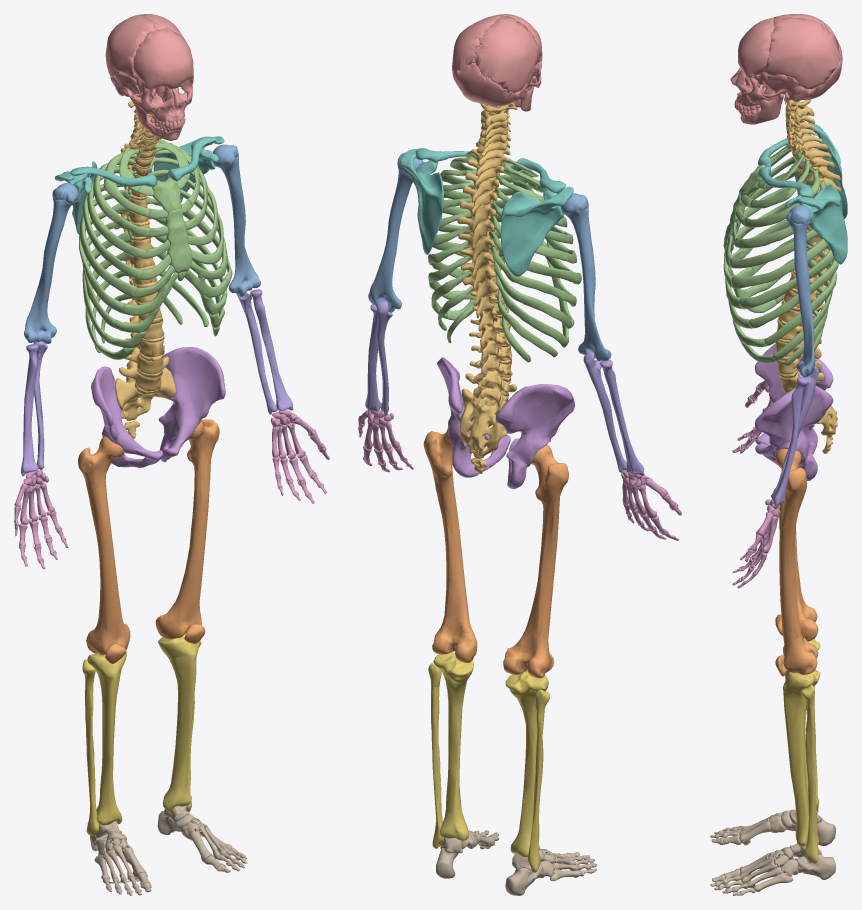
File: esqueleto.glb
3 views of the same model, side by side, from view 1: azimuth 30°, elevation 25°; view 2: azimuth 150°, elevation 25°; view 3: azimuth 270°, elevation 25° (orthographic). The views are drawn at different scales.
Visible parts, largest first — view 1: caja-toracica, femur, craneo, tibia-perone, pelvis, columna, humero, mano, pie, radio-cubito, cintura-escapular; view 2: caja-toracica, columna, femur, tibia-perone, craneo, cintura-escapular, pelvis, humero, radio-cubito, mano, pie; view 3: caja-toracica, craneo, femur, tibia-perone, pie, columna, pelvis, cintura-escapular, humero, mano, radio-cubito.
Part boxes in pixels (x1,y1,x2,y2): caja-toracica: (79,139,232,359); femur: (78,419,219,663); craneo: (105,14,193,140); tibia-perone: (82,633,201,835); pelvis: (91,347,225,467); columna: (114,96,175,438); humero: (24,144,260,343); mano: (14,410,329,569); pie: (90,805,247,895); radio-cubito: (21,289,293,476); cintura-escapular: (55,136,224,234); caja-toracica: (428,151,581,362); columna: (457,102,517,473); femur: (423,427,568,678); tibia-perone: (428,652,549,872); craneo: (452,14,542,111); cintura-escapular: (400,148,573,276); pelvis: (437,357,574,489); humero: (368,152,611,361); radio-cubito: (365,301,644,475); mano: (358,409,681,540); pie: (436,830,597,895); caja-toracica: (723,144,838,365); craneo: (730,14,842,124); femur: (775,448,818,676); tibia-perone: (783,638,820,863); pie: (710,809,835,895); columna: (775,99,840,453); pelvis: (755,343,833,480); cintura-escapular: (758,122,847,264); humero: (786,135,815,377); mano: (732,380,780,588); radio-cubito: (771,365,818,506).
Bounding box in the file's own units: 0.6694 × 1.7 × 0.2501.
